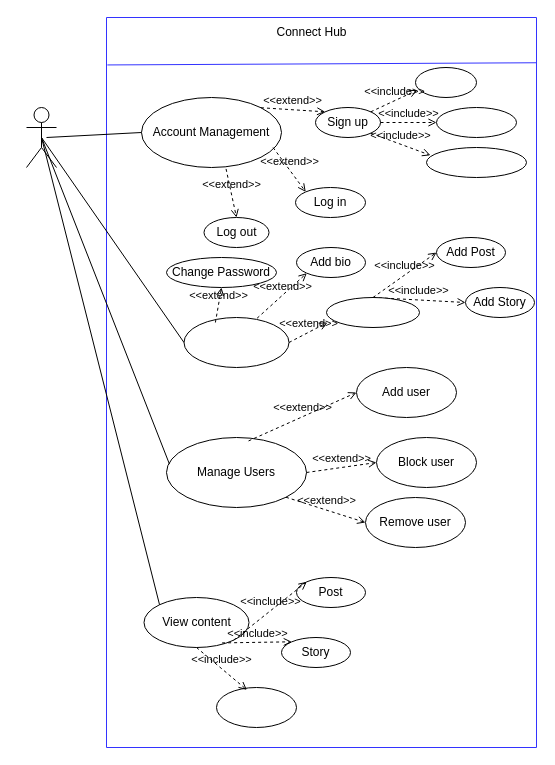
This 555x765 diagram has some shape labels left out. Here are the shapes that lost their labels. From the top down, the centre of each, then its label:
point (445, 82): Add Email
point (41, 137): Site User
point (476, 122): Add password
point (476, 162): Add date of birth
point (373, 312): Manage Content
point (236, 342): Manage profile
point (256, 707): User Profile
